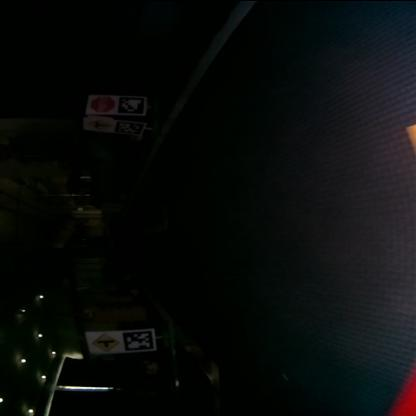Intersection sign: (90, 332, 118, 350), (85, 118, 113, 130)
QR code: (124, 329, 152, 349), (119, 96, 144, 113), (116, 119, 144, 134)
Stop sign: (88, 94, 112, 112)
